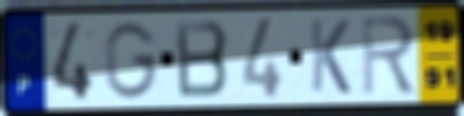4: (239, 14, 285, 101), (50, 19, 97, 103)
B: (173, 18, 231, 101)
G: (102, 20, 161, 101)
K: (307, 17, 353, 97)
R: (359, 13, 418, 98)
